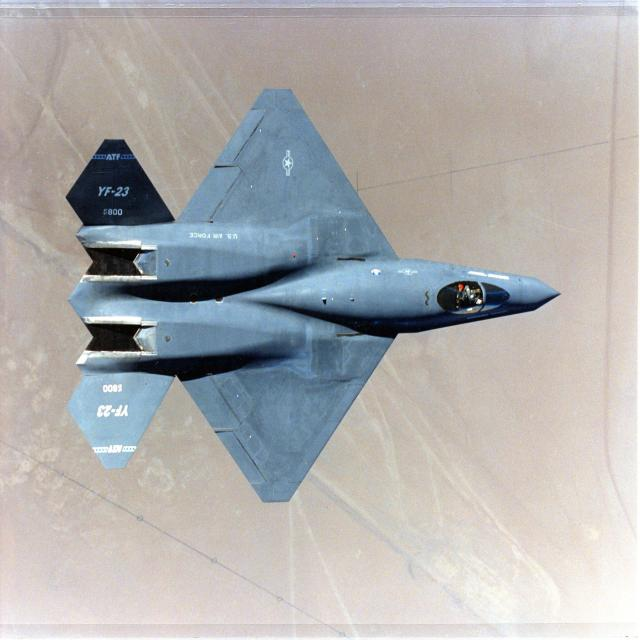MIL_Plane: (64, 89, 562, 504)
